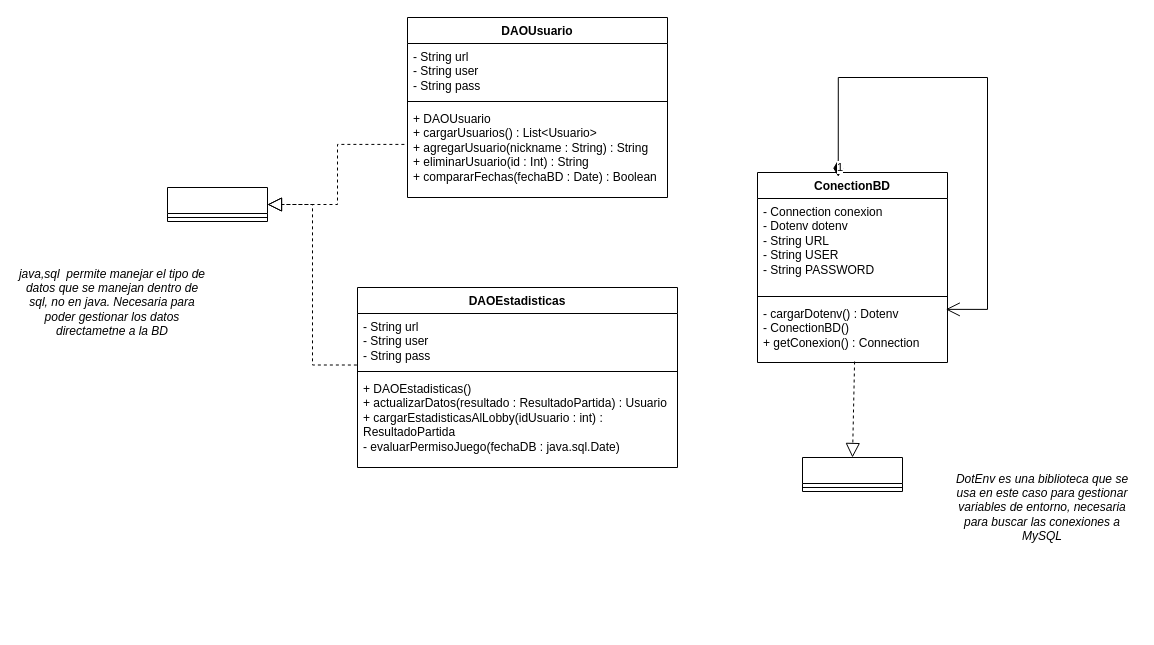
This 1154x645 diagram has some shape labels left out. Here are the shapes that lost their labels. From the top down, the box of each, then its label:
(166, 186, 268, 222): java.sql
(802, 456, 902, 492): DotEnv
